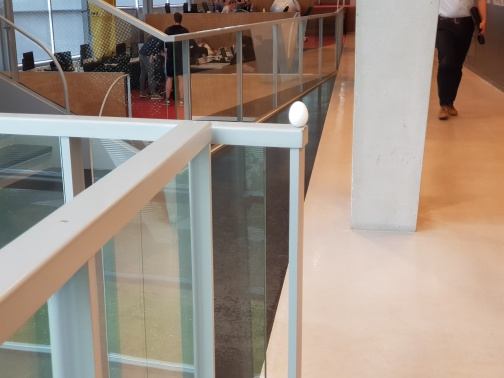egg: (286, 100, 310, 128)
